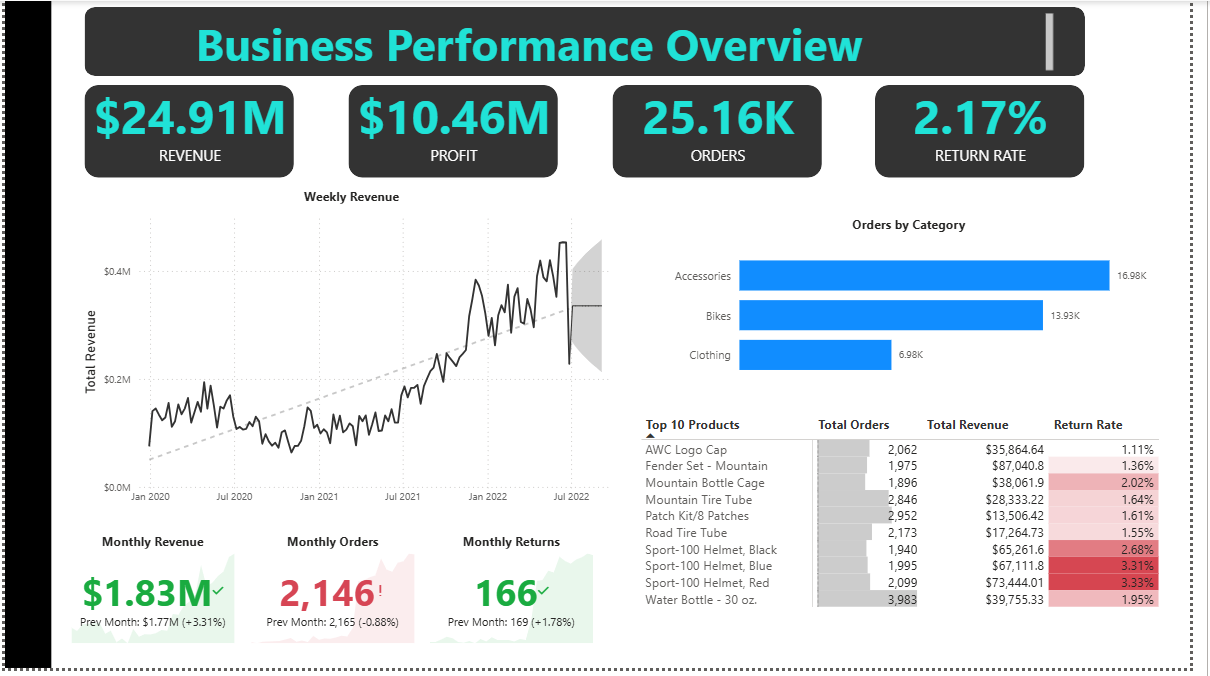

The dashboard page shown, as its layout file describes it:
{"tool":"powerbi","page":{"name":"Exec Dashboard","canvas":[1280,720],"ordinal":0},"visuals":[{"type":"shape","box":[0,0,50,720],"z":0},{"type":"shape","box":[85.7,90.6,226,100],"z":0,"group":"g1"},{"type":"shape","box":[85.8,6.5,1080,74.5],"z":1000},{"type":"group","id":"g1","title":"KPI Backgroups","box":[85.7,90.6,1080,100],"z":1000,"group":"g2"},{"type":"shape","box":[370.4,90.6,226,100],"z":1000,"group":"g1"},{"type":"textbox","box":[200.8,8.1,935.9,72.9],"z":2000},{"type":"shape","box":[655,90.6,226,100],"z":2000,"group":"g1"},{"type":"group","id":"g2","title":"KPIs","box":[66.4,61.9,1120,142],"z":3000},{"type":"card","fields":{"Values":["Measure Table.Total Revenue"]},"box":[66.4,61.9,266,142],"z":3000,"group":"g3"},{"type":"shape","box":[939.7,90.6,226,100],"z":3000,"group":"g1"},{"type":"group","id":"g3","title":"KPI Values","box":[66.4,61.9,1120,142],"z":4000,"group":"g2"},{"type":"card","fields":{"Values":["Measure Table.Return Rate"]},"box":[920.4,61.9,266,142],"z":4000,"group":"g3"},{"type":"lineChart","title":"Weekly Revenue","fields":{"Y":["Measure Table.Total Revenue"],"Category":["Calendar Lookup.Start of Week"]},"box":[79.3,200.8,589.4,351.4],"z":4000},{"type":"card","fields":{"Values":["Measure Table.Total Orders"]},"box":[635.7,61.9,266,142],"z":5000,"group":"g3"},{"type":"kpi","title":"Monthly Revenue","fields":{"Indicator":["Measure Table.Total Revenue"],"TrendLine":["Calendar Lookup.Start of Month"],"Goal":["Measure Table.Previous Month Revenue"]},"box":[66.4,573.2,186.2,124.7],"z":5000},{"type":"card","fields":{"Values":["Measure Table.Total Profit"]},"box":[351.1,61.9,266,142],"z":6000,"group":"g3"},{"type":"kpi","title":"Monthly Orders","fields":{"TrendLine":["Calendar Lookup.Start of Month"],"Indicator":["Measure Table.Total Orders"],"Goal":["Measure Table.Previous Month Orders"]},"box":[259.9,573.2,186.2,124.7],"z":6000},{"type":"kpi","title":"Monthly Returns","fields":{"TrendLine":["Calendar Lookup.Start of Month"],"Indicator":["Measure Table.Total Returns"],"Goal":["Measure Table.Previous Month Returns"]},"box":[453.4,573.2,186.2,124.7],"z":7000},{"type":"clusteredBarChart","title":"Orders by Category","fields":{"Category":["Product Categories Lookup.CategoryName"],"Y":["Measure Table.Total Orders"]},"box":[712.9,230.9,526.6,190.4],"z":8000},{"type":"pivotTable","fields":{"Rows":["Product Lookup.ProductName"],"Values":["Measure Table.Total Orders","Measure Table.Total Revenue","Measure Table.Return Rate"]},"box":[681.7,442,587.8,238],"z":9000}]}

Visuals, with their boxes in screenshot pixels (x1, y1, x2, y2), scaled from the page's 1280x720 canvas onto the 1210x676 screenshot:
shape: x1=0 y1=0 x2=47 y2=675
shape: x1=81 y1=85 x2=295 y2=179
shape: x1=81 y1=6 x2=1102 y2=76
"KPI Backgroups" group: x1=81 y1=85 x2=1102 y2=179
shape: x1=350 y1=85 x2=564 y2=179
textbox: x1=190 y1=8 x2=1075 y2=76
shape: x1=619 y1=85 x2=833 y2=179
"KPIs" group: x1=63 y1=58 x2=1122 y2=191
card - Measure Table.Total Revenue: x1=63 y1=58 x2=314 y2=191
shape: x1=888 y1=85 x2=1102 y2=179
"KPI Values" group: x1=63 y1=58 x2=1122 y2=191
card - Measure Table.Return Rate: x1=870 y1=58 x2=1122 y2=191
"Weekly Revenue" lineChart: x1=75 y1=189 x2=632 y2=518
card - Measure Table.Total Orders: x1=601 y1=58 x2=852 y2=191
"Monthly Revenue" kpi: x1=63 y1=538 x2=239 y2=655
card - Measure Table.Total Profit: x1=332 y1=58 x2=583 y2=191
"Monthly Orders" kpi: x1=246 y1=538 x2=422 y2=655
"Monthly Returns" kpi: x1=429 y1=538 x2=605 y2=655
"Orders by Category" clusteredBarChart: x1=674 y1=217 x2=1172 y2=396
pivotTable - Product Lookup.ProductName x Measure Table.Total Orders: x1=644 y1=415 x2=1200 y2=638
